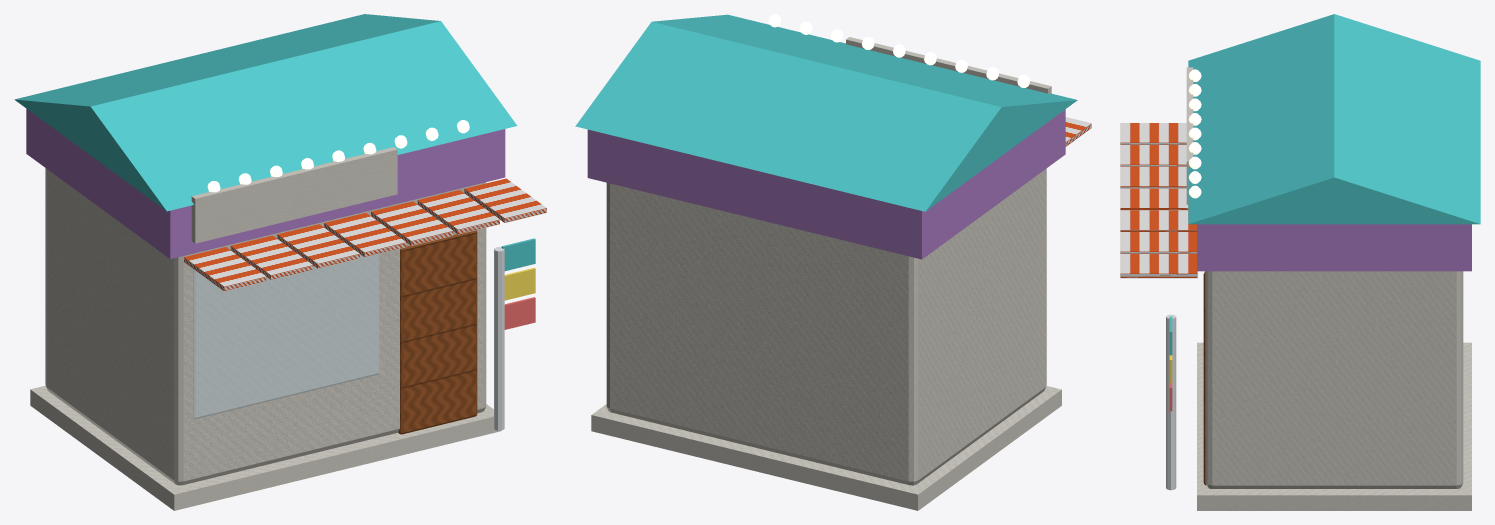
Rendered from theme-park-rides-and-coasters-theme-park-rides-and-coa-1ebf81e2__28684.glb.
The picture shows the model from 3 angles, left to right: view 1: azimuth 30°, elevation 25°; view 2: azimuth 150°, elevation 25°; view 3: azimuth 270°, elevation 25°; orthographic projection. The views are drawn at different scales.
Parts seen in each view (by area): view 1: theme-park-rides-and-coasters-gift-shop-bay; view 2: theme-park-rides-and-coasters-gift-shop-bay; view 3: theme-park-rides-and-coasters-gift-shop-bay.
Part boxes in pixels (x1,y1,x2,y2): theme-park-rides-and-coasters-gift-shop-bay: [14, 14, 546, 510]; theme-park-rides-and-coasters-gift-shop-bay: [575, 14, 1091, 510]; theme-park-rides-and-coasters-gift-shop-bay: [1120, 14, 1480, 510].
Bounding box in the file's own units: 4.61 × 4.35 × 4.19.
10 materials, 3 textured.
